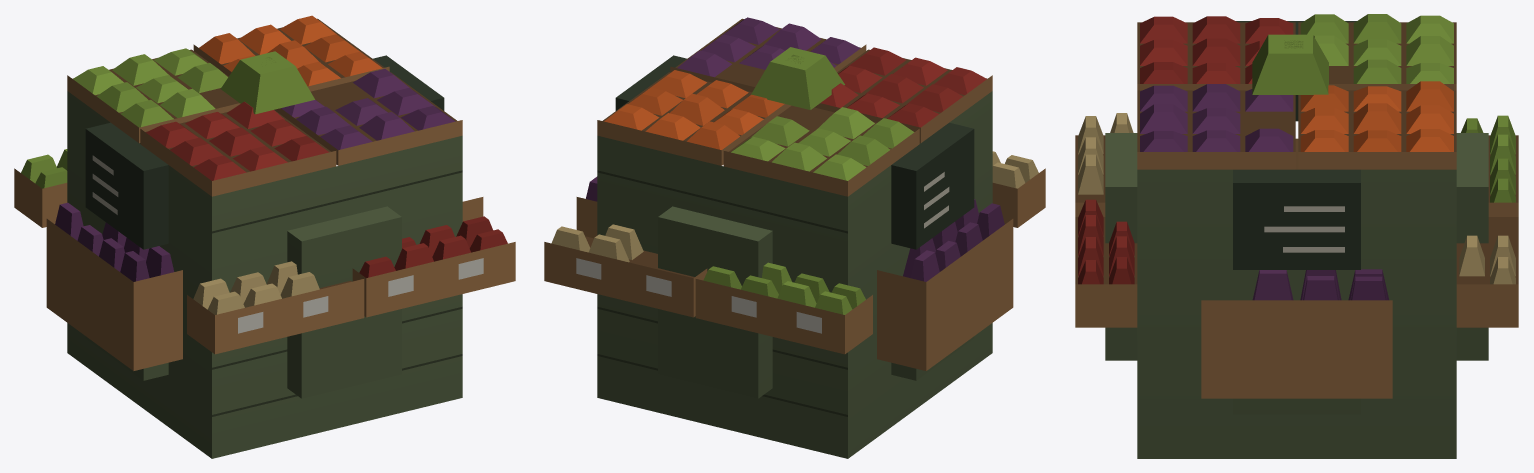
Rendered from shop.produce_stand.veg.glb.
3 renders of one model, left to right at view 1: azimuth 30°, elevation 25°; view 2: azimuth 150°, elevation 25°; view 3: azimuth 270°, elevation 25°, orthographic. The views are drawn at different scales.
Parts seen in each view (by area): view 1: shop_produce_stand_veg; view 2: shop_produce_stand_veg; view 3: shop_produce_stand_veg.
Boxes of the visible parts, x1,y1,x2,y2 form: shop_produce_stand_veg: [14, 15, 515, 458]; shop_produce_stand_veg: [544, 17, 1045, 458]; shop_produce_stand_veg: [1075, 14, 1518, 458].
Size of what is drawn, in the model's own units: 1.39 by 1.2 by 1.39.
